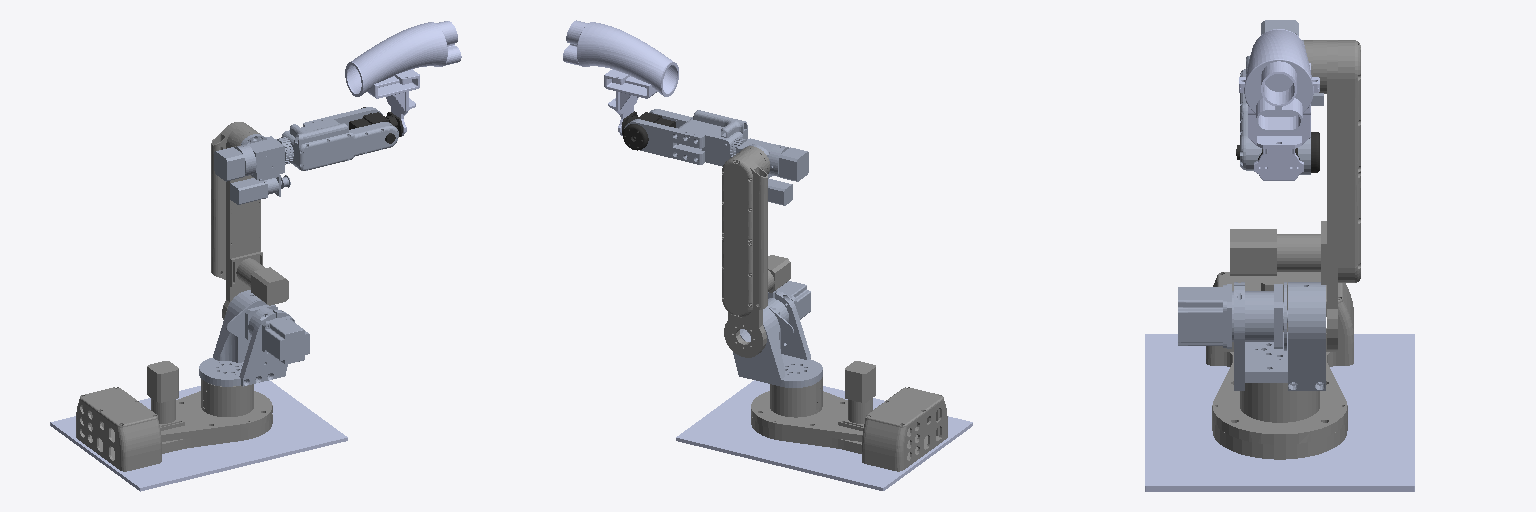
The robot description file, URDF, robot "arm_description":
<?xml version="1.0" encoding="utf-8"?>
<!-- This URDF was automatically created by SolidWorks to URDF Exporter! Originally created by [author] ([email redacted]) 
     Commit Version: 1.5.1-0-g916b5db  Build Version: 1.5.7152.31018
     For more information, please see http://wiki.ros.org/sw_urdf_exporter -->
<robot
  name="arm_description">
  <link
    name="base_link">
    <inertial>
      <origin
        xyz="0.046889 0.00049452 -0.3168"
        rpy="0 0 0" />
      <mass
        value="29.988" />
      <inertia
        ixx="3.9577"
        ixy="-0.00084235"
        ixz="-0.074162"
        iyy="4.2269"
        iyz="-0.012306"
        izz="1.777" />
    </inertial>
    <visual>
      <origin
        xyz="0 0 0"
        rpy="0 0 0" />
      <geometry>
        <mesh
          filename="package://arm_description/meshes/base_link.STL" />
      </geometry>
      <material
        name="">
        <color
          rgba="0.79216 0.81961 0.93333 1" />
      </material>
    </visual>
    <collision>
      <origin
        xyz="0 0 0"
        rpy="0 0 0" />
      <geometry>
        <mesh
          filename="package://arm_description/meshes/base_link.STL" />
      </geometry>
    </collision>
  </link>
  <link
    name="Link0">
    <inertial>
      <origin
        xyz="-0.091685 7.9817E-06 0.039528"
        rpy="0 0 0" />
      <mass
        value="0.94745" />
      <inertia
        ixx="0.0017212"
        ixy="-9.0051E-07"
        ixz="5.6302E-05"
        iyy="0.0021872"
        iyz="4.5068E-07"
        izz="0.0035384" />
    </inertial>
    <visual>
      <origin
        xyz="0 0 0"
        rpy="0 0 0" />
      <geometry>
        <mesh
          filename="package://arm_description/meshes/Link0.STL" />
      </geometry>
      <material
        name="">
        <color
          rgba="0.6 0.6 0.6 1" />
      </material>
    </visual>
    <collision>
      <origin
        xyz="0 0 0"
        rpy="0 0 0" />
      <geometry>
        <mesh
          filename="package://arm_description/meshes/Link0.STL" />
      </geometry>
    </collision>
  </link>
  <joint
    name="J0"
    type="fixed">
    <origin
      xyz="0.055058 0 0.00635"
      rpy="0 0 0" />
    <parent
      link="base_link" />
    <child
      link="Link0" />
    <axis
      xyz="0 0 0" />
  </joint>
  <link
    name="Link1">
    <inertial>
      <origin
        xyz="0.052938 -0.0202 0.11556"
        rpy="0 0 0" />
      <mass
        value="0.7296" />
      <inertia
        ixx="0.00048256"
        ixy="4.274E-06"
        ixz="-3.5713E-05"
        iyy="0.00068662"
        iyz="2.2504E-06"
        izz="0.00049478" />
    </inertial>
    <visual>
      <origin
        xyz="0 0 0"
        rpy="0 0 0" />
      <geometry>
        <mesh
          filename="package://arm_description/meshes/Link1.STL" />
      </geometry>
      <material
        name="">
        <color
          rgba="0.66667 0.69804 0.76863 1" />
      </material>
    </visual>
    <collision>
      <origin
        xyz="0 0 0"
        rpy="0 0 0" />
      <geometry>
        <mesh
          filename="package://arm_description/meshes/Link1.STL" />
      </geometry>
    </collision>
  </link>
  <joint
    name="J1"
    type="revolute">
    <origin
      xyz="0 0 0.0307"
      rpy="0 0 0" />
    <parent
      link="Link0" />
    <child
      link="Link1" />
    <axis
      xyz="0 0 1" />
    <limit
      lower="-3.14"
      upper="3.14"
      effort="50"
      velocity="0.4" />
    <dynamics
      damping="2"
      friction="2" />
  </joint>
  <link
    name="Link2">
    <inertial>
      <origin
        xyz="-0.0016902 -0.0051417 0.14919"
        rpy="0 0 0" />
      <mass
        value="0.64235" />
      <inertia
        ixx="0.0026795"
        ixy="1.0388E-07"
        ixz="5.9339E-06"
        iyy="0.0028646"
        iyz="-1.0172E-07"
        izz="0.00025998" />
    </inertial>
    <visual>
      <origin
        xyz="0 0 0"
        rpy="0 0 0" />
      <geometry>
        <mesh
          filename="package://arm_description/meshes/Link2.STL" />
      </geometry>
      <material
        name="">
        <color
          rgba="0.6 0.6 0.6 1" />
      </material>
    </visual>
    <collision>
      <origin
        xyz="0 0 0"
        rpy="0 0 0" />
      <geometry>
        <mesh
          filename="package://arm_description/meshes/Link2.STL" />
      </geometry>
    </collision>
  </link>
  <joint
    name="J2"
    type="revolute">
    <origin
      xyz="0.064146 0.051713 0.13908"
      rpy="0 0 0" />
    <parent
      link="Link1" />
    <child
      link="Link2" />
    <axis
      xyz="0 1 0" />
    <limit
      lower="-3.14"
      upper="3.14"
      effort="50"
      velocity="0.4" />
    <dynamics
      damping="2"
      friction="2" />
  </joint>
  <link
    name="Link3">
    <inertial>
      <origin
        xyz="-0.015301 -0.033924 -0.019018"
        rpy="0 0 0" />
      <mass
        value="0.25905" />
      <inertia
        ixx="7.1842E-05"
        ixy="-2.2078E-06"
        ixz="4.0076E-07"
        iyy="0.00022797"
        iyz="6.1732E-08"
        izz="0.00023684" />
    </inertial>
    <visual>
      <origin
        xyz="0 0 0"
        rpy="0 0 0" />
      <geometry>
        <mesh
          filename="package://arm_description/meshes/Link3.STL" />
      </geometry>
      <material
        name="">
        <color
          rgba="0.66667 0.69804 0.76863 1" />
      </material>
    </visual>
    <collision>
      <origin
        xyz="0 0 0"
        rpy="0 0 0" />
      <geometry>
        <mesh
          filename="package://arm_description/meshes/Link3.STL" />
      </geometry>
    </collision>
  </link>
  <joint
    name="J3"
    type="revolute">
    <origin
      xyz="0 -0.015 0.305"
      rpy="0 0 0" />
    <parent
      link="Link2" />
    <child
      link="Link3" />
    <axis
      xyz="0 -1 0" />
    <limit
      lower="-3.14"
      upper="3.14"
      effort="50"
      velocity="0.4" />
    <dynamics
      damping="2"
      friction="2" />
  </joint>
  <link
    name="Link4">
    <inertial>
      <origin
        xyz="0.094357 -0.0036851 0.0014509"
        rpy="0 0 0" />
      <mass
        value="0.26849" />
      <inertia
        ixx="9.7347E-05"
        ixy="4.5376E-06"
        ixz="1.4747E-05"
        iyy="0.00057145"
        iyz="-1.9226E-06"
        izz="0.00051253" />
    </inertial>
    <visual>
      <origin
        xyz="0 0 0"
        rpy="0 0 0" />
      <geometry>
        <mesh
          filename="package://arm_description/meshes/Link4.STL" />
      </geometry>
      <material
        name="">
        <color
          rgba="0.66667 0.69804 0.76863 1" />
      </material>
    </visual>
    <collision>
      <origin
        xyz="0 0 0"
        rpy="0 0 0" />
      <geometry>
        <mesh
          filename="package://arm_description/meshes/Link4.STL" />
      </geometry>
    </collision>
  </link>
  <joint
    name="J4"
    type="revolute">
    <origin
      xyz="0.035639 -0.0367 0"
      rpy="0 0 0" />
    <parent
      link="Link3" />
    <child
      link="Link4" />
    <axis
      xyz="-1 0 0" />
    <limit
      lower="-3.14"
      upper="3.14"
      effort="50"
      velocity="0.4" />
    <dynamics
      damping="2"
      friction="2" />
  </joint>
  <link
    name="Link5">
    <inertial>
      <origin
        xyz="-0.0053162 -0.034053 -1.2516E-05"
        rpy="0 0 0" />
      <mass
        value="0.12103" />
      <inertia
        ixx="2.2715E-05"
        ixy="-4.8507E-09"
        ixz="3.0375E-09"
        iyy="2.1891E-05"
        iyz="-7.5024E-09"
        izz="1.9579E-05" />
    </inertial>
    <visual>
      <origin
        xyz="0 0 0"
        rpy="0 0 0" />
      <geometry>
        <mesh
          filename="package://arm_description/meshes/Link5.STL" />
      </geometry>
      <material
        name="">
        <color
          rgba="0.25098 0.25098 0.25098 1" />
      </material>
    </visual>
    <collision>
      <origin
        xyz="0 0 0"
        rpy="0 0 0" />
      <geometry>
        <mesh
          filename="package://arm_description/meshes/Link5.STL" />
      </geometry>
    </collision>
  </link>
  <joint
    name="J5"
    type="revolute">
    <origin
      xyz="0.1873 0.034781 0"
      rpy="0 0 0" />
    <parent
      link="Link4" />
    <child
      link="Link5" />
    <axis
      xyz="0 -1 0" />
    <limit
      lower="-3.14"
      upper="3.14"
      effort="50"
      velocity="0.4" />
    <dynamics
      damping="2"
      friction="2" />
  </joint>
  <link
    name="EE">
    <inertial>
      <origin
        xyz="0.014612 -5.3033E-07 0.069029"
        rpy="0 0 0" />
      <mass
        value="0.10423" />
      <inertia
        ixx="0.00012008"
        ixy="-1.8069E-08"
        ixz="1.8028E-05"
        iyy="0.00013591"
        iyz="2.1569E-08"
        izz="0.00010079" />
    </inertial>
    <visual>
      <origin
        xyz="0 0 0"
        rpy="0 0 0" />
      <geometry>
        <mesh
          filename="package://arm_description/meshes/EE.STL" />
      </geometry>
      <material
        name="">
        <color
          rgba="0.79216 0.81961 0.93333 1" />
      </material>
    </visual>
    <collision>
      <origin
        xyz="0 0 0"
        rpy="0 0 0" />
      <geometry>
        <mesh
          filename="package://arm_description/meshes/EE.STL" />
      </geometry>
    </collision>
  </link>
  <joint
    name="J6"
    type="revolute">
    <origin
      xyz="0.0129 -0.035781 0"
      rpy="0 0 0" />
    <parent
      link="Link5" />
    <child
      link="EE" />
    <axis
      xyz="1 0 0" />
    <limit
      lower="-3.14"
      upper="3.14"
      effort="50"
      velocity="0.4" />
    <dynamics
      damping="2"
      friction="2" />
  </joint>
  <link
    name="Connector">
    <inertial>
      <origin
        xyz="-0.001369 -7.9653E-05 0.024618"
        rpy="0 0 0" />
      <mass
        value="0.098251" />
      <inertia
        ixx="9.9071E-05"
        ixy="9.9525E-09"
        ixz="-3.1379E-05"
        iyy="0.00024297"
        iyz="3.2777E-07"
        izz="0.00023545" />
    </inertial>
    <visual>
      <origin
        xyz="0 0 0"
        rpy="0 0 0" />
      <geometry>
        <mesh
          filename="package://arm_description/meshes/Connector.STL" />
      </geometry>
      <material
        name="">
        <color
          rgba="0.79216 0.81961 0.93333 1" />
      </material>
    </visual>
    <collision>
      <origin
        xyz="0 0 0"
        rpy="0 0 0" />
      <geometry>
        <mesh
          filename="package://arm_description/meshes/Connector.STL" />
      </geometry>
    </collision>
  </link>
  <joint
    name="Connector_joint"
    type="fixed">
    <origin
      xyz="0.050145 0 0.098"
      rpy="0 0 0" />
    <parent
      link="EE" />
    <child
      link="Connector" />
    <axis
      xyz="0 0 0" />
  </joint>
</robot>

--- What the picture shows (computed from the rendered views, not written in the file) ---
Views: 3 orthographic renders of the robot side by side, from view 1: azimuth 30°, elevation 25°; view 2: azimuth 150°, elevation 25°; view 3: azimuth 270°, elevation 25°.
Robot: arm_description — 9 links, 8 joints (6 revolute, 2 fixed); root link base_link; default pose: all joints at 0.
Links seen in each view (by area): view 1: Link0, base_link, Link1, Link2, Connector, Link4, Link3, EE, Link5; view 2: Link0, Link2, base_link, Link1, Connector, Link4, Link3, EE, Link5; view 3: base_link, Link2, Link1, Link0, Connector, EE, Link4, Link3.
Link boxes in pixels (x1,y1,x2,y2): Link0: [76, 361, 272, 471]; base_link: [50, 380, 347, 491]; Link1: [199, 290, 309, 386]; Link2: [211, 122, 288, 319]; Connector: [345, 21, 461, 96]; Link4: [276, 107, 398, 170]; Link3: [214, 134, 290, 204]; EE: [367, 69, 419, 136]; Link5: [349, 107, 402, 143]; Link0: [751, 361, 947, 471]; Link2: [722, 146, 790, 357]; base_link: [676, 380, 972, 490]; Link1: [733, 281, 822, 387]; Connector: [563, 20, 678, 96]; Link4: [624, 109, 747, 166]; Link3: [736, 138, 808, 205]; EE: [604, 69, 656, 135]; Link5: [622, 111, 675, 150]; base_link: [1145, 334, 1414, 491]; Link2: [1230, 40, 1360, 350]; Link1: [1178, 282, 1325, 390]; Link0: [1206, 272, 1353, 459]; Connector: [1239, 29, 1319, 131]; EE: [1239, 63, 1319, 180]; Link4: [1240, 56, 1310, 174]; Link3: [1261, 20, 1323, 105].
Size in the robot's own frame: 0.6899 by 0.3 by 0.6485 metres.
9 mesh visuals loaded from 9 distinct referenced files (9 binary STL).